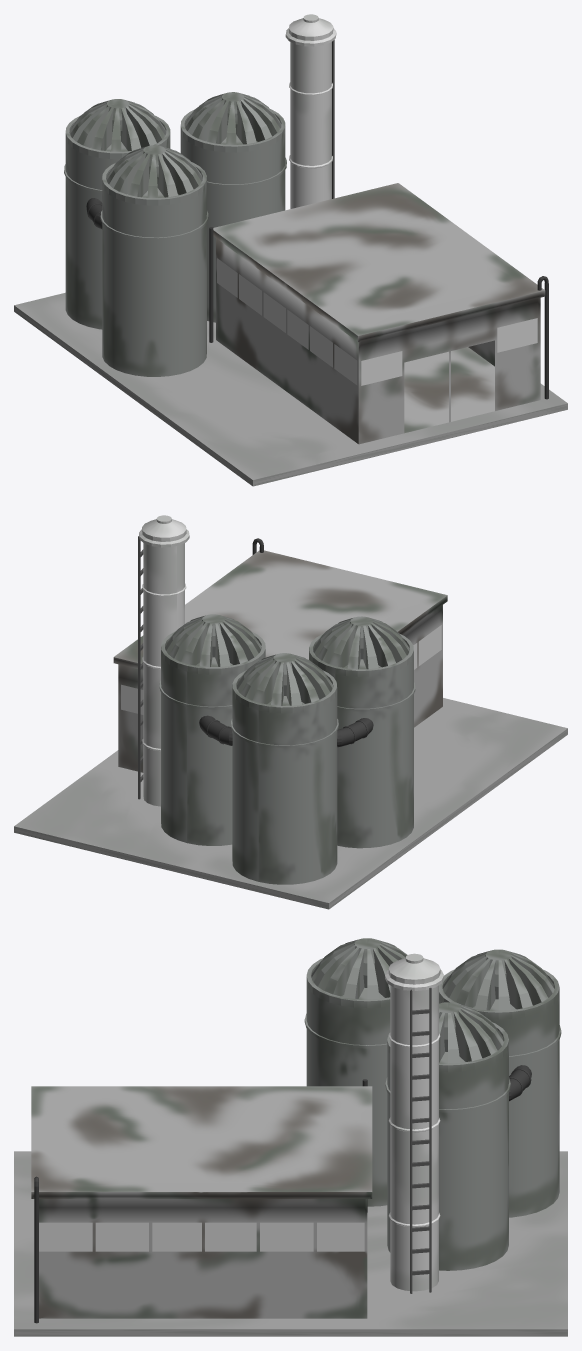
Rendered from anti.fbx.
3 views of the same model, one above another, from view 1: azimuth 30°, elevation 25°; view 2: azimuth 150°, elevation 25°; view 3: azimuth 270°, elevation 25° (orthographic). The views are drawn at different scales.
Parts seen in each view (by area): view 1: hontai, Box002, Cylinder003, Cylinder005, Cylinder004, Cylinder008, Plane017, Plane018, Cylinder002, Plane001, Plane003, Plane005 (+1 smaller); view 2: Box002, Cylinder004, hontai, Cylinder003, Cylinder005, Cylinder008, Plane019, Cylinder007, Cylinder006, Plane001, Plane014; view 3: hontai, Box002, Cylinder005, Cylinder004, Cylinder008, Cylinder003, Plane019, Plane008, Plane012, Plane011, Plane009, Plane010 (+3 smaller).
Boxes of the visible parts, x1,y1,x2,y2 form: hontai: [213, 183, 545, 444]; Box002: [14, 292, 567, 486]; Cylinder003: [100, 145, 208, 376]; Cylinder005: [180, 92, 286, 322]; Cylinder004: [64, 99, 170, 329]; Cylinder008: [285, 14, 336, 208]; Plane017: [361, 351, 402, 385]; Plane018: [497, 318, 537, 352]; Cylinder002: [537, 276, 548, 399]; Plane001: [334, 344, 357, 385]; Plane003: [310, 326, 332, 367]; Plane005: [239, 274, 261, 315]; Box002: [14, 698, 567, 909]; Cylinder004: [231, 653, 338, 884]; hontai: [113, 550, 447, 772]; Cylinder003: [309, 616, 415, 848]; Cylinder005: [159, 614, 265, 845]; Cylinder008: [139, 515, 189, 806]; Plane019: [138, 536, 143, 799]; Cylinder007: [337, 718, 373, 747]; Cylinder006: [199, 715, 232, 745]; Plane001: [418, 625, 441, 666]; Plane014: [121, 684, 143, 714]; hontai: [31, 1086, 372, 1318]; Box002: [14, 1151, 567, 1336]; Cylinder005: [385, 1002, 510, 1270]; Cylinder004: [439, 949, 561, 1217]; Cylinder008: [385, 953, 443, 1291]; Cylinder003: [304, 938, 407, 1206]; Plane019: [410, 987, 431, 1293]; Plane008: [260, 1222, 313, 1251]; Plane012: [39, 1222, 92, 1251]; Plane011: [95, 1222, 148, 1251]; Plane009: [205, 1222, 256, 1251]; Plane010: [152, 1222, 201, 1251].
Size of the model in its own units: 173 by 150 by 228.
